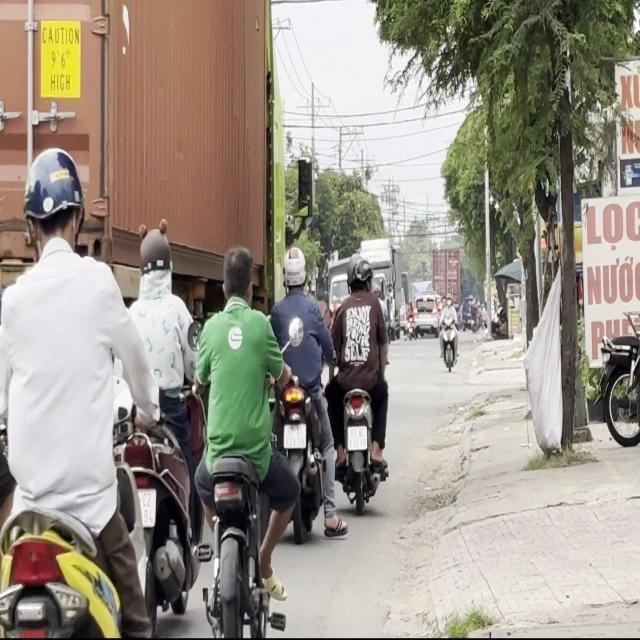helmet: (22, 144, 88, 258), (137, 226, 173, 294), (281, 245, 306, 290), (350, 259, 373, 295)
licenseplate: (0, 140, 163, 636), (189, 241, 303, 635), (122, 223, 200, 632), (270, 244, 336, 541), (329, 252, 392, 512)
motorcyclist: (220, 244, 254, 308)
nohelmet: (283, 423, 306, 448), (348, 425, 367, 450)
